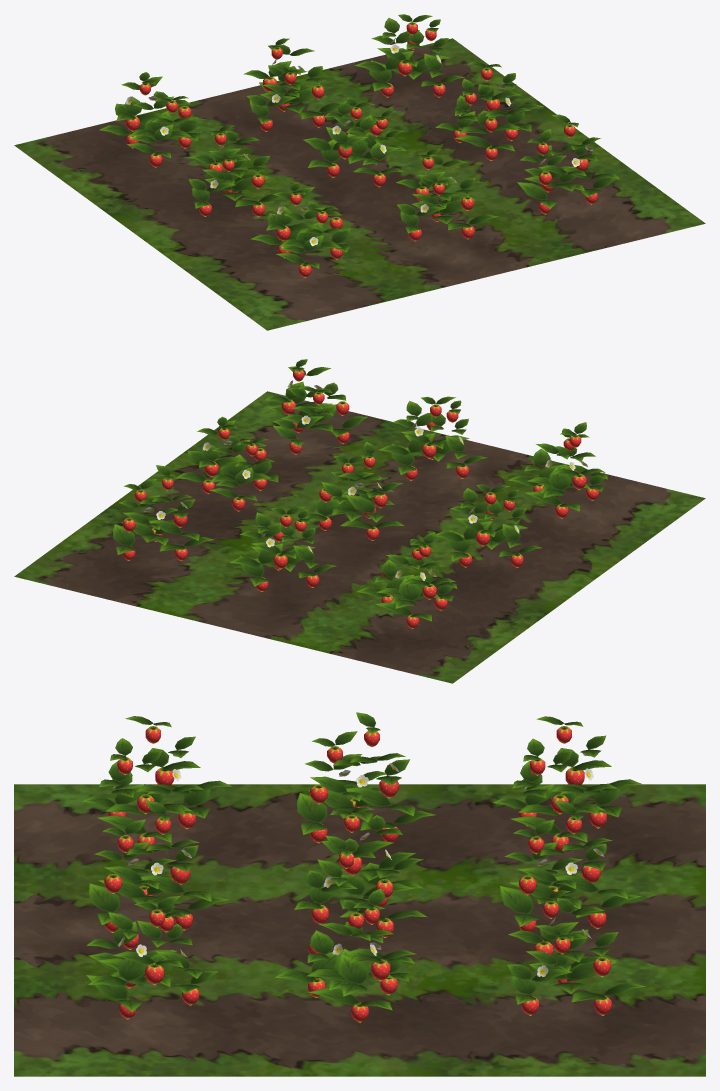
The model's file is strawberryfields.fbx.
The picture shows the model from 3 angles, top to bottom: view 1: azimuth 30°, elevation 25°; view 2: azimuth 150°, elevation 25°; view 3: azimuth 270°, elevation 25°; orthographic projection. The views are drawn at different scales.
Visible parts, largest first — view 1: ground_strawberryfields, leafs_inv_5, leafs_inv_9, leafs_inv_7, leafs_inv, leafs_inv_3, leafs_inv_8, leafs_inv_2, leafs_inv_4, leafs_inv_6, leafs_5, leafs_9 (+7 smaller); view 2: ground_strawberryfields, leafs_inv_2, leafs_inv_8, leafs_inv_4, leafs_inv_6, leafs_inv_7, leafs_inv_9, leafs_inv_3, leafs_inv, leafs_inv_5, leafs_7, leafs_3 (+7 smaller); view 3: ground_strawberryfields, leafs_inv_2, leafs_inv_3, leafs_inv, leafs_inv_8, leafs_inv_9, leafs_inv_7, leafs_inv_5, leafs_inv_6, leafs_inv_4, leafs_2, leafs_3 (+7 smaller).
Boxes of the visible parts, x1,y1,x2,y2 form: ground_strawberryfields: [14, 38, 705, 330]; leafs_inv_5: [303, 97, 406, 174]; leafs_inv_9: [250, 182, 351, 268]; leafs_inv_7: [99, 72, 200, 157]; leafs_inv: [354, 14, 464, 91]; leafs_inv_3: [517, 114, 619, 208]; leafs_inv_8: [188, 125, 280, 208]; leafs_inv_2: [435, 61, 543, 151]; leafs_inv_4: [243, 38, 341, 123]; leafs_inv_6: [396, 148, 499, 233]; leafs_5: [305, 98, 404, 173]; leafs_9: [252, 183, 350, 266]; ground_strawberryfields: [14, 391, 705, 683]; leafs_inv_2: [175, 416, 278, 500]; leafs_inv_8: [435, 484, 542, 561]; leafs_inv_4: [229, 506, 336, 586]; leafs_inv_6: [378, 396, 487, 474]; leafs_inv_7: [356, 532, 457, 621]; leafs_inv_9: [508, 422, 607, 511]; leafs_inv_3: [265, 359, 368, 446]; leafs_inv: [112, 465, 214, 554]; leafs_inv_5: [304, 441, 404, 528]; leafs_7: [361, 533, 455, 619]; leafs_3: [267, 359, 365, 445]; ground_strawberryfields: [14, 784, 705, 1076]; leafs_inv_2: [274, 888, 416, 1010]; leafs_inv_3: [86, 896, 218, 1011]; leafs_inv: [507, 890, 645, 1004]; leafs_inv_8: [297, 712, 435, 834]; leafs_inv_9: [82, 716, 232, 842]; leafs_inv_7: [493, 716, 642, 842]; leafs_inv_5: [294, 806, 427, 920]; leafs_inv_6: [88, 800, 229, 924]; leafs_inv_4: [500, 800, 640, 926]; leafs_2: [276, 889, 413, 1007]; leafs_3: [88, 897, 215, 1012].
Size of the model in its own units: 500 by 94.43 by 500.
Materials: 4 (4 with a texture image).
